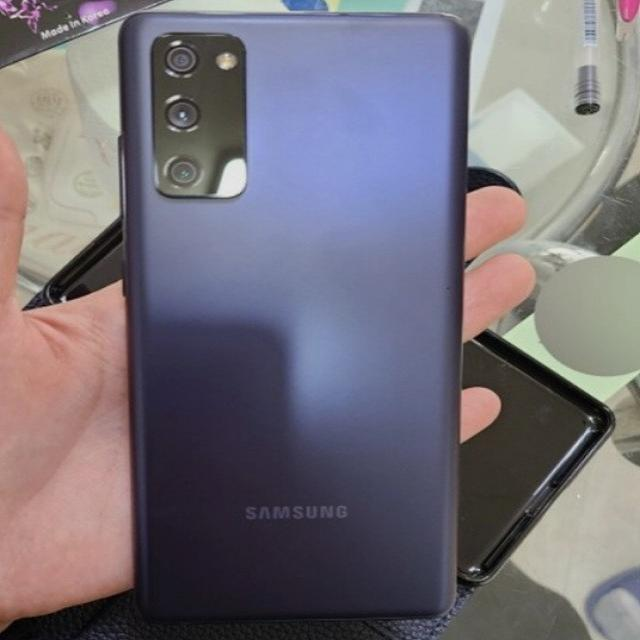phone: (121, 14, 451, 620)
